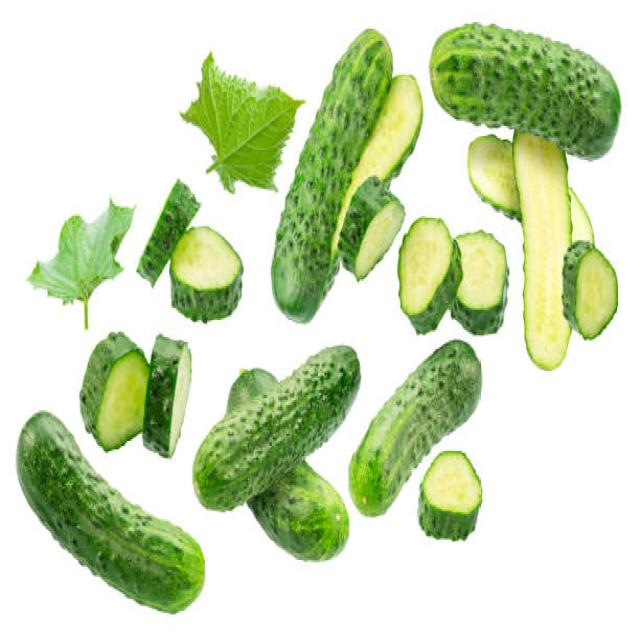cucumber: (271, 25, 422, 325), (17, 411, 205, 613), (194, 344, 360, 564), (429, 23, 622, 164), (348, 339, 482, 518)
